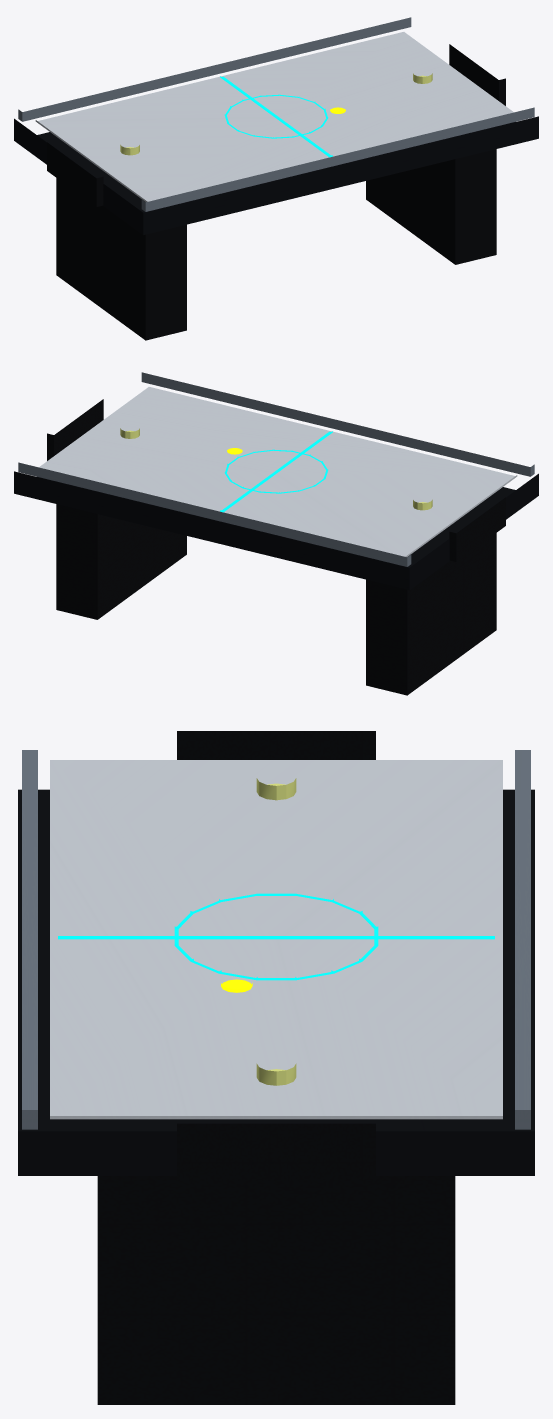
The model's file is tt_arc_airhockey.glb.
The picture shows the model from 3 angles, top to bottom: view 1: azimuth 30°, elevation 25°; view 2: azimuth 150°, elevation 25°; view 3: azimuth 270°, elevation 25°; orthographic projection. The views are drawn at different scales.
Visible parts, largest first — view 1: AH_Surface, AH_Legs, AH_Body, AH_Rails, AH_Goals, AH_Circle, AH_CenterLine; view 2: AH_Surface, AH_Legs, AH_Body, AH_Rails, AH_Goals, AH_Circle, AH_CenterLine; view 3: AH_Surface, AH_Legs, AH_Body, AH_Goals, AH_Rails, AH_CenterLine, AH_Circle, Mallets.
Part boxes in pixels (x1=…): AH_Surface: x1=35, y1=32, x2=513, y2=201; AH_Legs: x1=56, y1=149, x2=496, y2=340; AH_Body: x1=14, y1=116, x2=538, y2=235; AH_Rails: x1=18, y1=17, x2=534, y2=211; AH_Goals: x1=47, y1=44, x2=505, y2=206; AH_Circle: x1=224, y1=94, x2=328, y2=138; AH_CenterLine: x1=220, y1=76, x2=332, y2=157; AH_Surface: x1=39, y1=387, x2=517, y2=556; AH_Legs: x1=56, y1=504, x2=496, y2=695; AH_Body: x1=14, y1=471, x2=538, y2=590; AH_Rails: x1=18, y1=372, x2=534, y2=566; AH_Goals: x1=47, y1=399, x2=505, y2=561; AH_Circle: x1=224, y1=449, x2=328, y2=493; AH_CenterLine: x1=220, y1=431, x2=332, y2=512; AH_Surface: x1=50, y1=760, x2=502, y2=1119; AH_Legs: x1=97, y1=1176, x2=455, y2=1404; AH_Body: x1=18, y1=789, x2=534, y2=1175; AH_Goals: x1=177, y1=731, x2=375, y2=1181; AH_Rails: x1=22, y1=750, x2=530, y2=1129; AH_CenterLine: x1=58, y1=936, x2=494, y2=939; AH_Circle: x1=174, y1=893, x2=378, y2=980; Mallets: x1=256, y1=778, x2=296, y2=1085.
Size of what is drawn, in the model's own units: 2.38 by 0.87 by 1.3.
7 materials, 4 textured.
